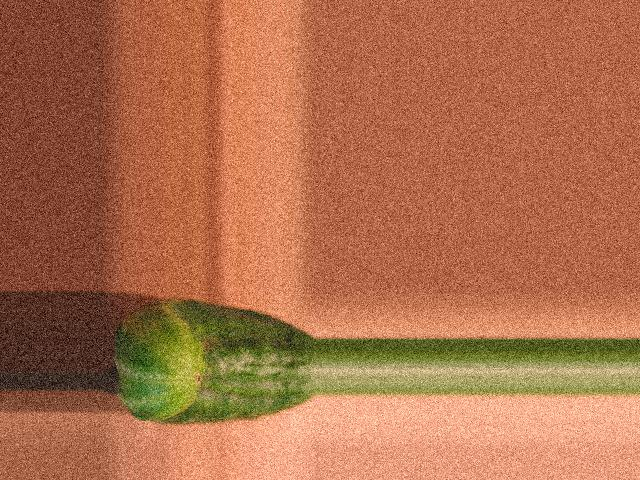cucumber: (115, 299, 314, 425)
